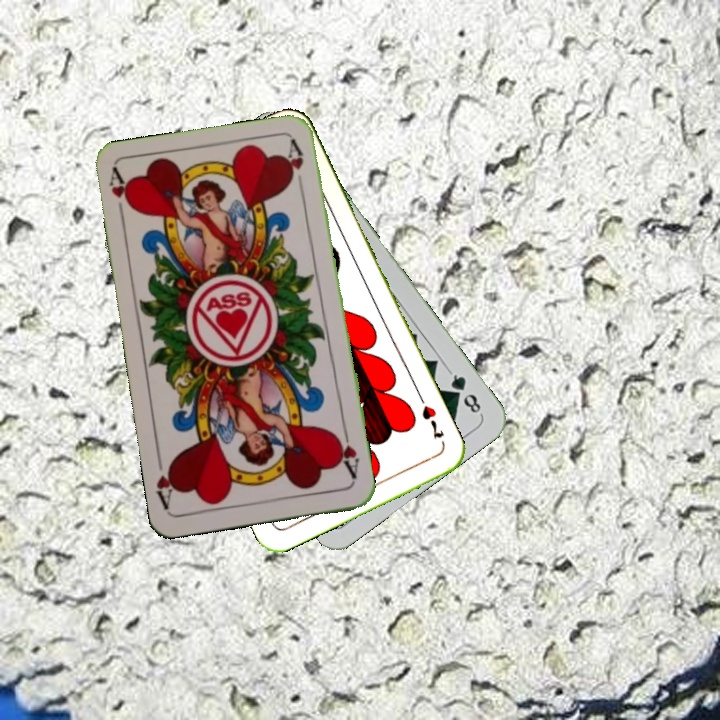G8: (444, 367, 485, 418)
H7: (418, 401, 447, 442)
HA: (104, 166, 136, 225), (331, 424, 362, 481)
